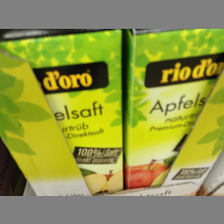juice: (1, 29, 127, 193), (123, 29, 224, 189)
